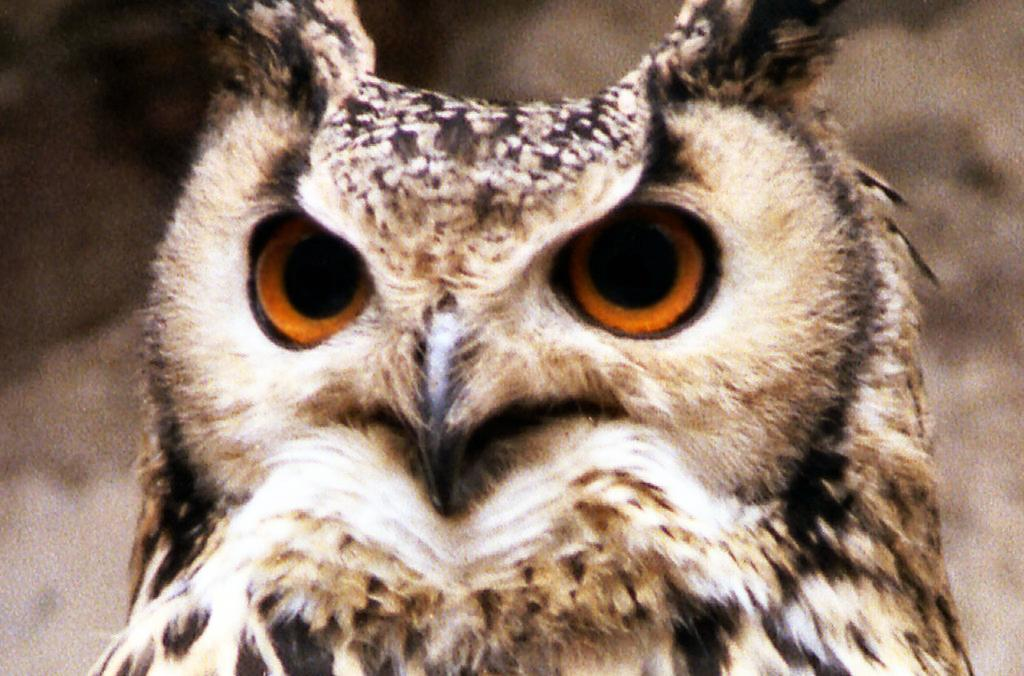Owl: (82, 0, 972, 675)
